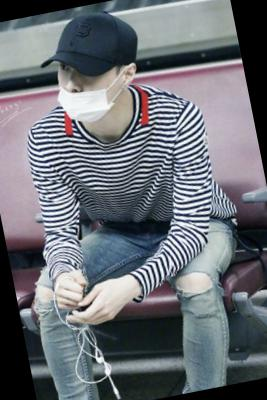mask_weared_incorrect: (54, 53, 124, 127)
